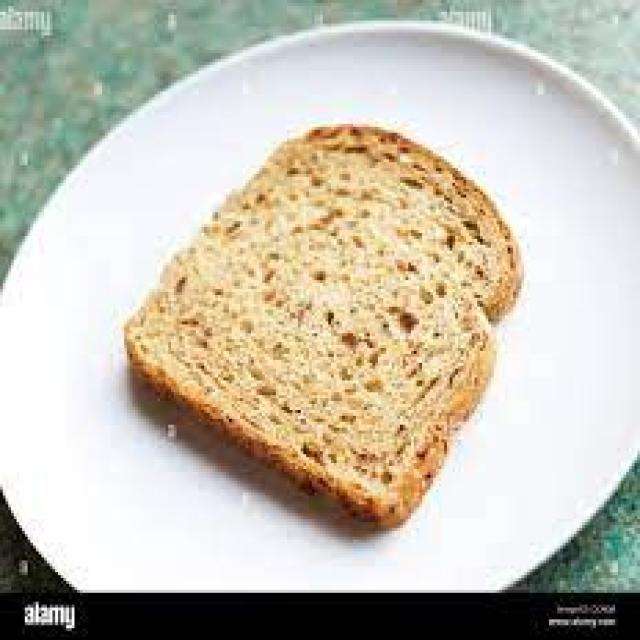Bread: (125, 127, 520, 526)
